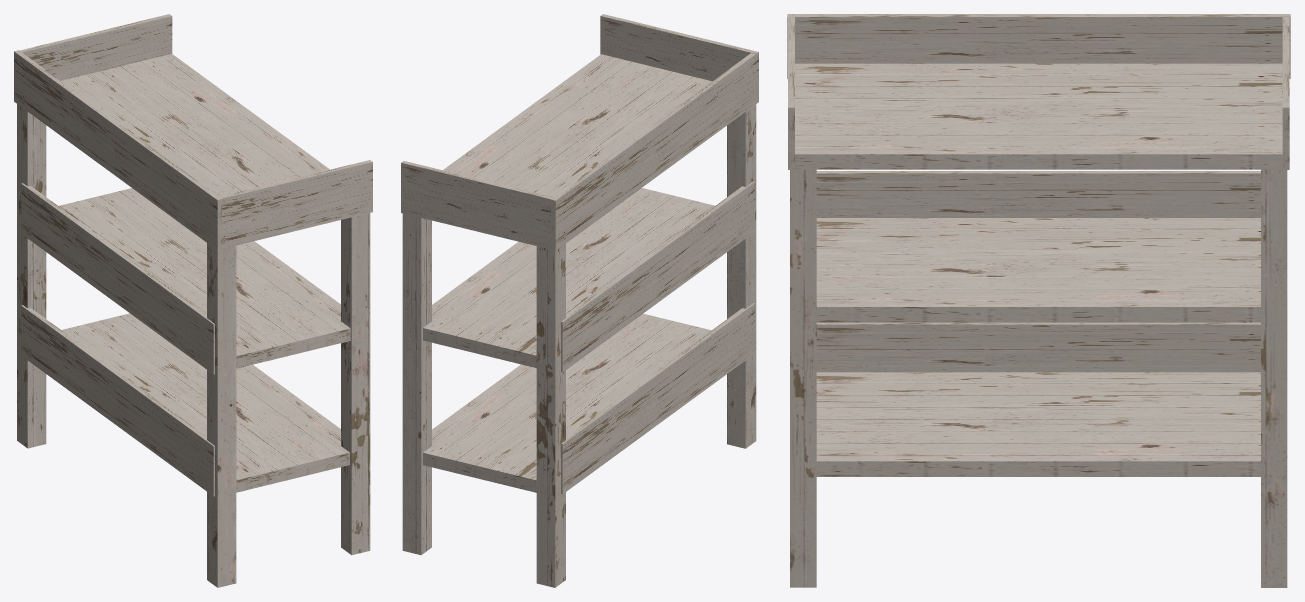
File: shelf.glb
3 renders of one model, left to right at view 1: azimuth 30°, elevation 25°; view 2: azimuth 150°, elevation 25°; view 3: azimuth 270°, elevation 25°, orthographic. The views are drawn at different scales.
Visible parts, largest first — view 1: Cube.038; view 2: Cube.038; view 3: Cube.038.
Part boxes in pixels (bbox=[...]): Cube.038: bbox=[14, 14, 372, 587]; Cube.038: bbox=[401, 14, 758, 587]; Cube.038: bbox=[787, 14, 1290, 587].
Size of the model in its own units: 0.6395 by 1.53 by 1.45.
1 material, 1 textured.
